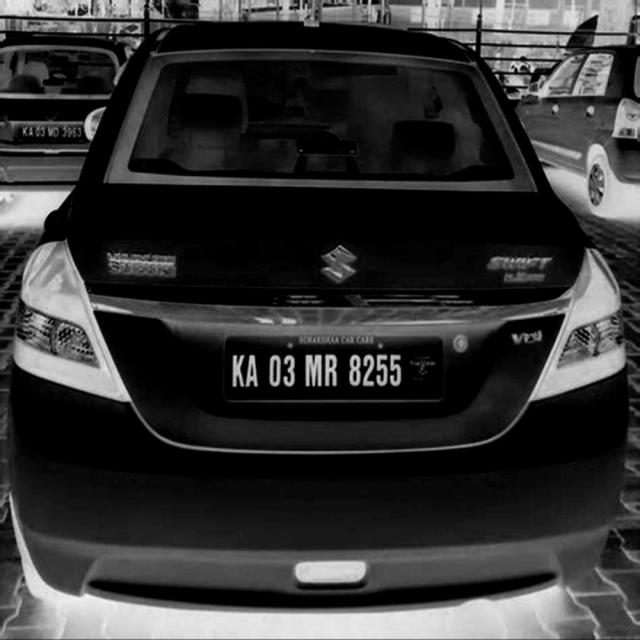Non_registered: (228, 336, 443, 397)
